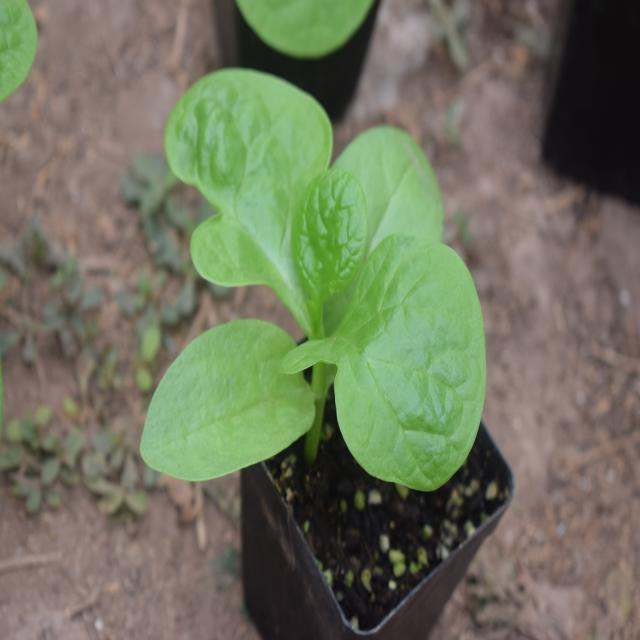Ceylon spinach: (151, 76, 477, 506)
